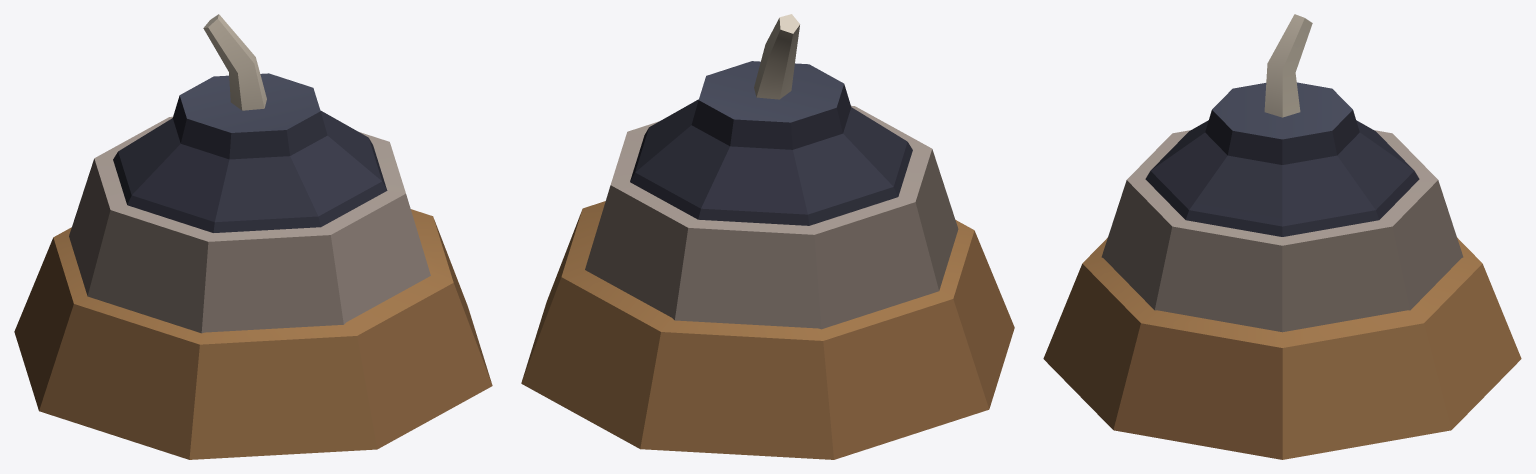
File: MinesLv2.fbx
3 renders of one model, left to right at view 1: azimuth 30°, elevation 25°; view 2: azimuth 150°, elevation 25°; view 3: azimuth 270°, elevation 25°, orthographic. The views are drawn at different scales.
Visible parts, largest first — view 1: MinesLv2; view 2: MinesLv2; view 3: MinesLv2.
Part boxes in pixels (x1,y1,x2,y2): MinesLv2: (14, 14, 492, 459); MinesLv2: (521, 14, 1014, 459); MinesLv2: (1043, 14, 1521, 459).
Bounding box in the file's own units: 37.06 × 32.4 × 37.06.
